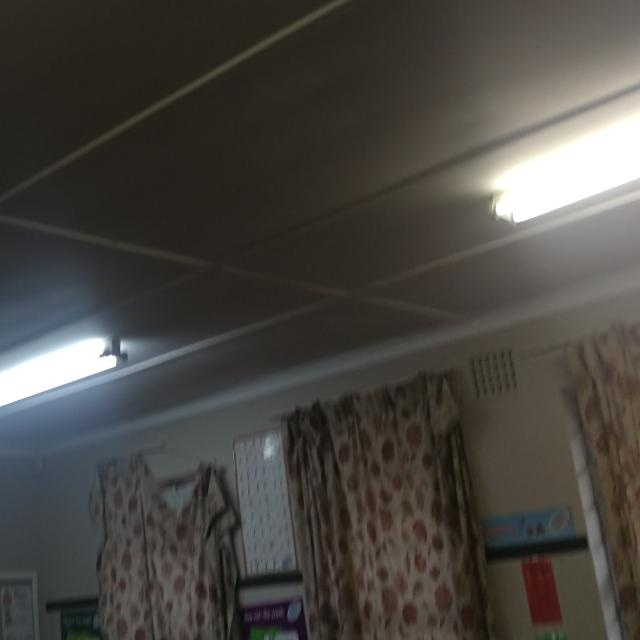fluorescent tube: (0, 295, 155, 457), (411, 140, 640, 248)
